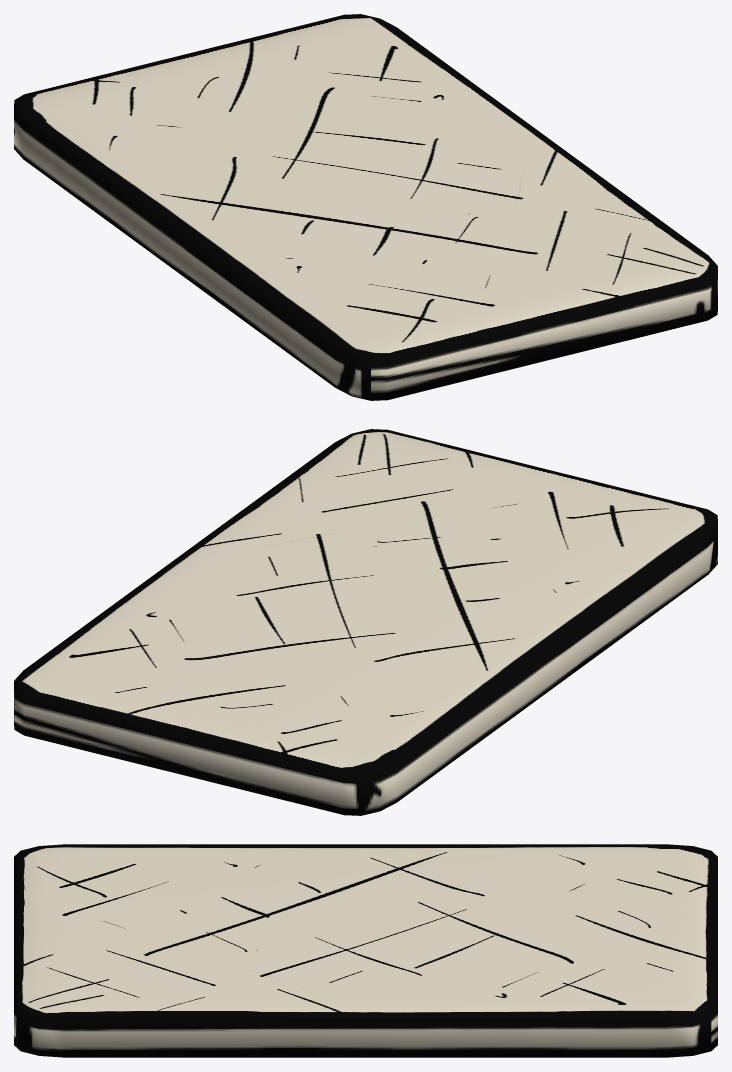
The model's file is SM_Mattress.fbx.
The picture shows the model from 3 angles, top to bottom: view 1: azimuth 30°, elevation 25°; view 2: azimuth 150°, elevation 25°; view 3: azimuth 270°, elevation 25°; orthographic projection. The views are drawn at different scales.
Parts seen in each view (by area): view 1: SM_Mattress; view 2: SM_Mattress; view 3: SM_Mattress.
Boxes of the visible parts, x1,y1,x2,y2 form: SM_Mattress: (14, 14, 717, 400); SM_Mattress: (14, 429, 717, 815); SM_Mattress: (14, 844, 717, 1057).
Bounding box in the file's own units: 2.07 × 3.48 × 0.2524.
